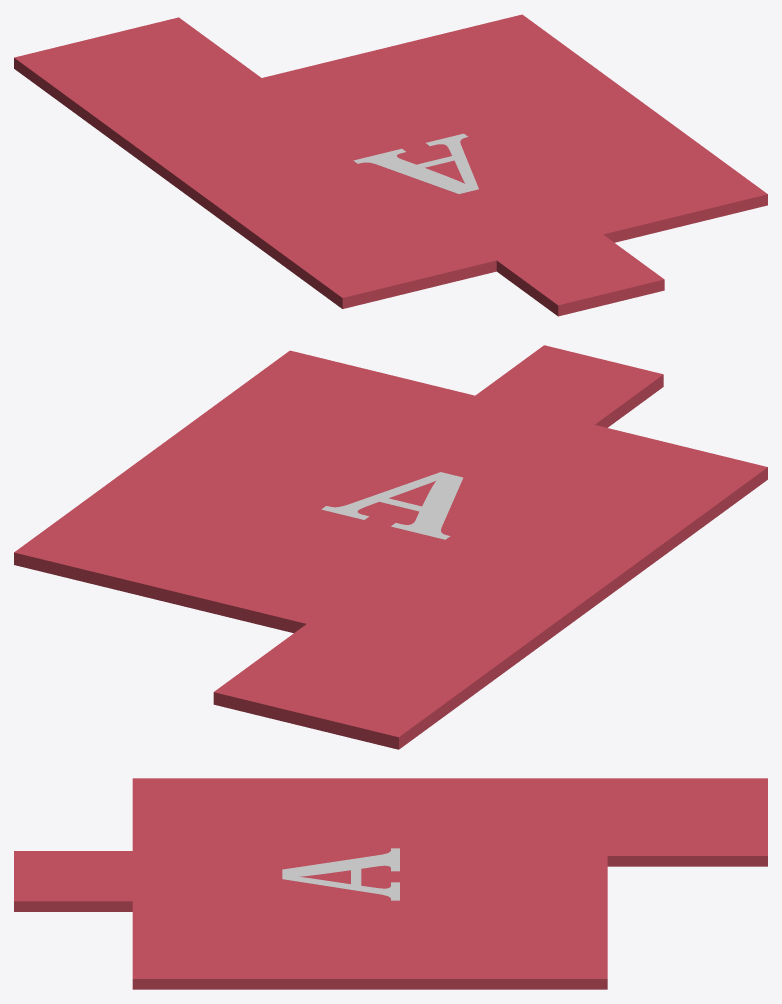
File: mapafajoes3d.glb
The picture shows the model from 3 angles, top to bottom: view 1: azimuth 30°, elevation 25°; view 2: azimuth 150°, elevation 25°; view 3: azimuth 270°, elevation 25°; orthographic projection. The views are drawn at different scales.
Parts seen in each view (by area): view 1: Mesh_Mesh_head_geo.001_lambert2SG.001; view 2: Mesh_Mesh_head_geo.001_lambert2SG.001; view 3: Mesh_Mesh_head_geo.001_lambert2SG.001.
Part boxes in pixels (<box>): Mesh_Mesh_head_geo.001_lambert2SG.001: <box>14,14,767,316</box>; Mesh_Mesh_head_geo.001_lambert2SG.001: <box>14,345,767,749</box>; Mesh_Mesh_head_geo.001_lambert2SG.001: <box>14,778,767,989</box>.
Size of the model in its own units: 80 by 2.01 by 127.
